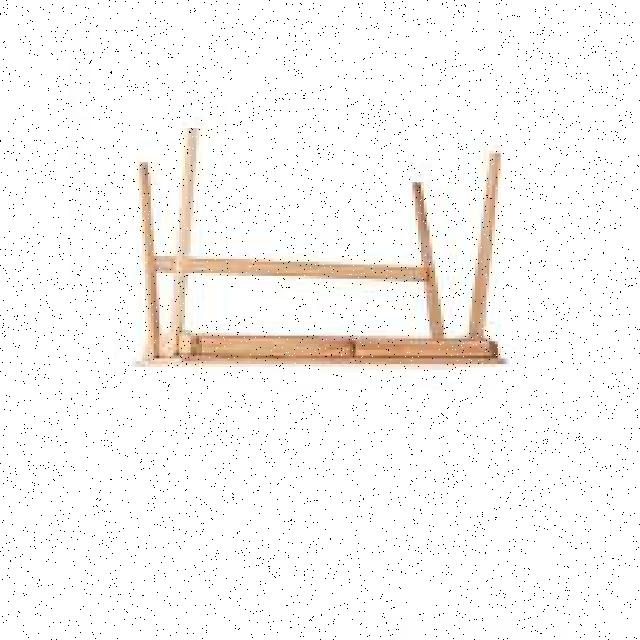mobile-phone: (135, 129, 512, 375)
